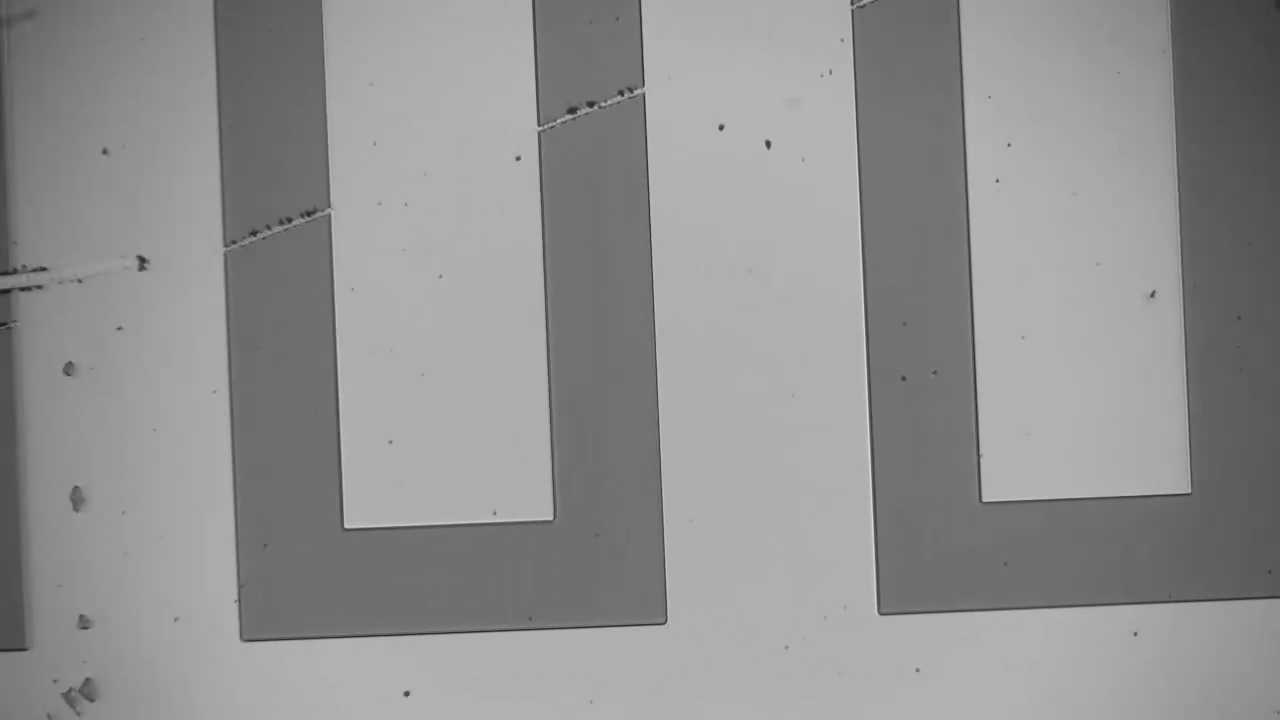scratch: (533, 81, 637, 134), (226, 204, 325, 248)
